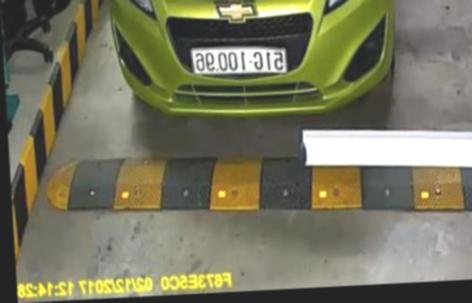License_Plate: (191, 40, 288, 83)
